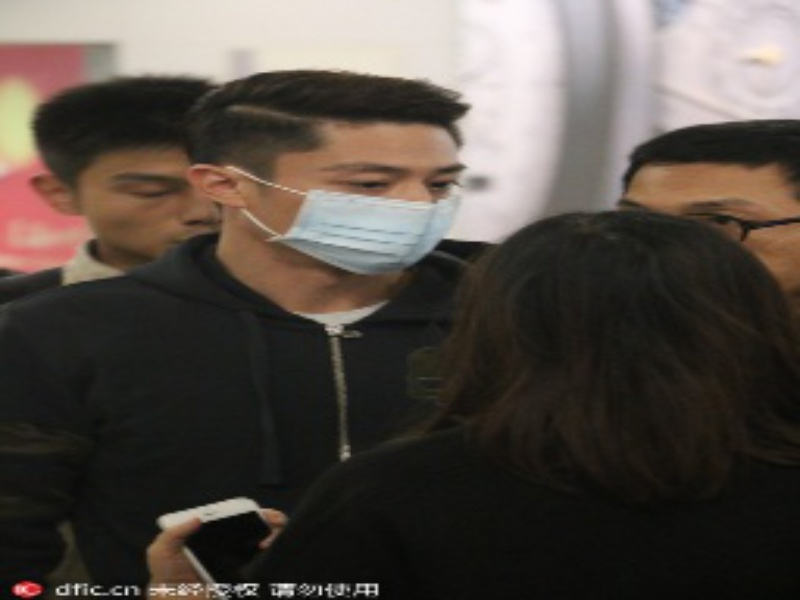ManaoArotava: (241, 65, 476, 313)
